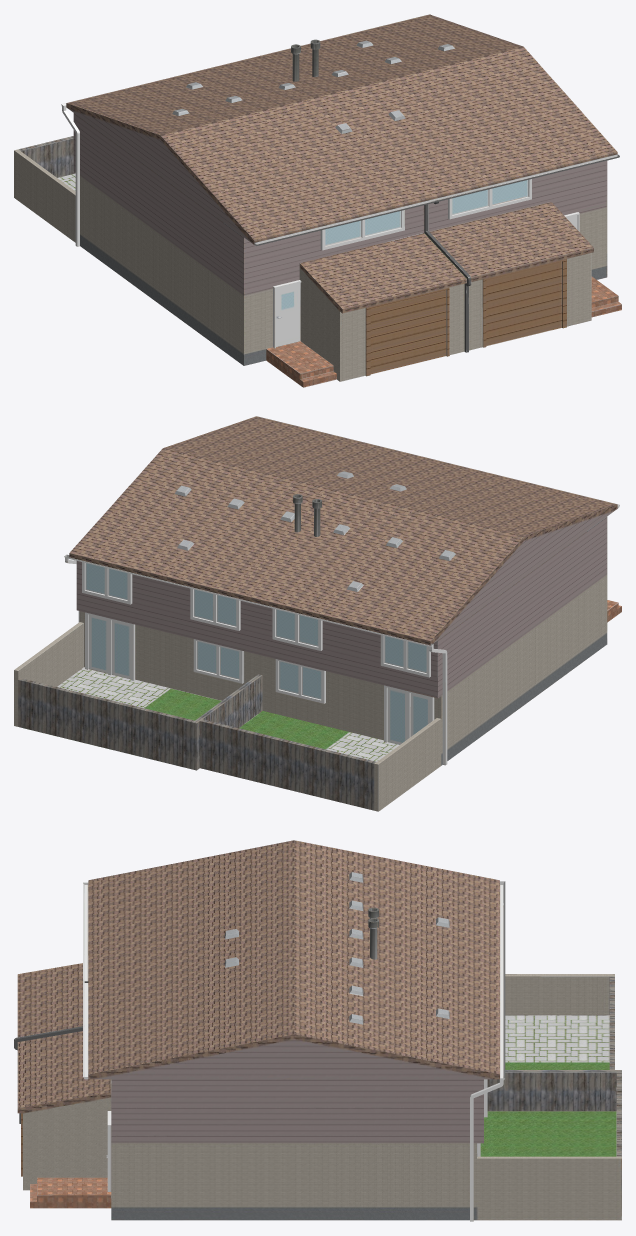
Rendered from Residential House 01.fbx.
3 views of the same model, one above another, from view 1: azimuth 30°, elevation 25°; view 2: azimuth 150°, elevation 25°; view 3: azimuth 270°, elevation 25° (orthographic). The views are drawn at different scales.
Visible parts, largest first — view 1: Residential_House_01_LOD0; view 2: Residential_House_01_LOD0; view 3: Residential_House_01_LOD0.
Boxes of the visible parts, box(x1,y1,x2,y2) form: Residential_House_01_LOD0: box(14, 14, 621, 387); Residential_House_01_LOD0: box(14, 416, 621, 811); Residential_House_01_LOD0: box(14, 840, 621, 1221).
Size of what is drawn, in the model's own units: 1320 by 650 by 1720.
1 material, 1 textured.
